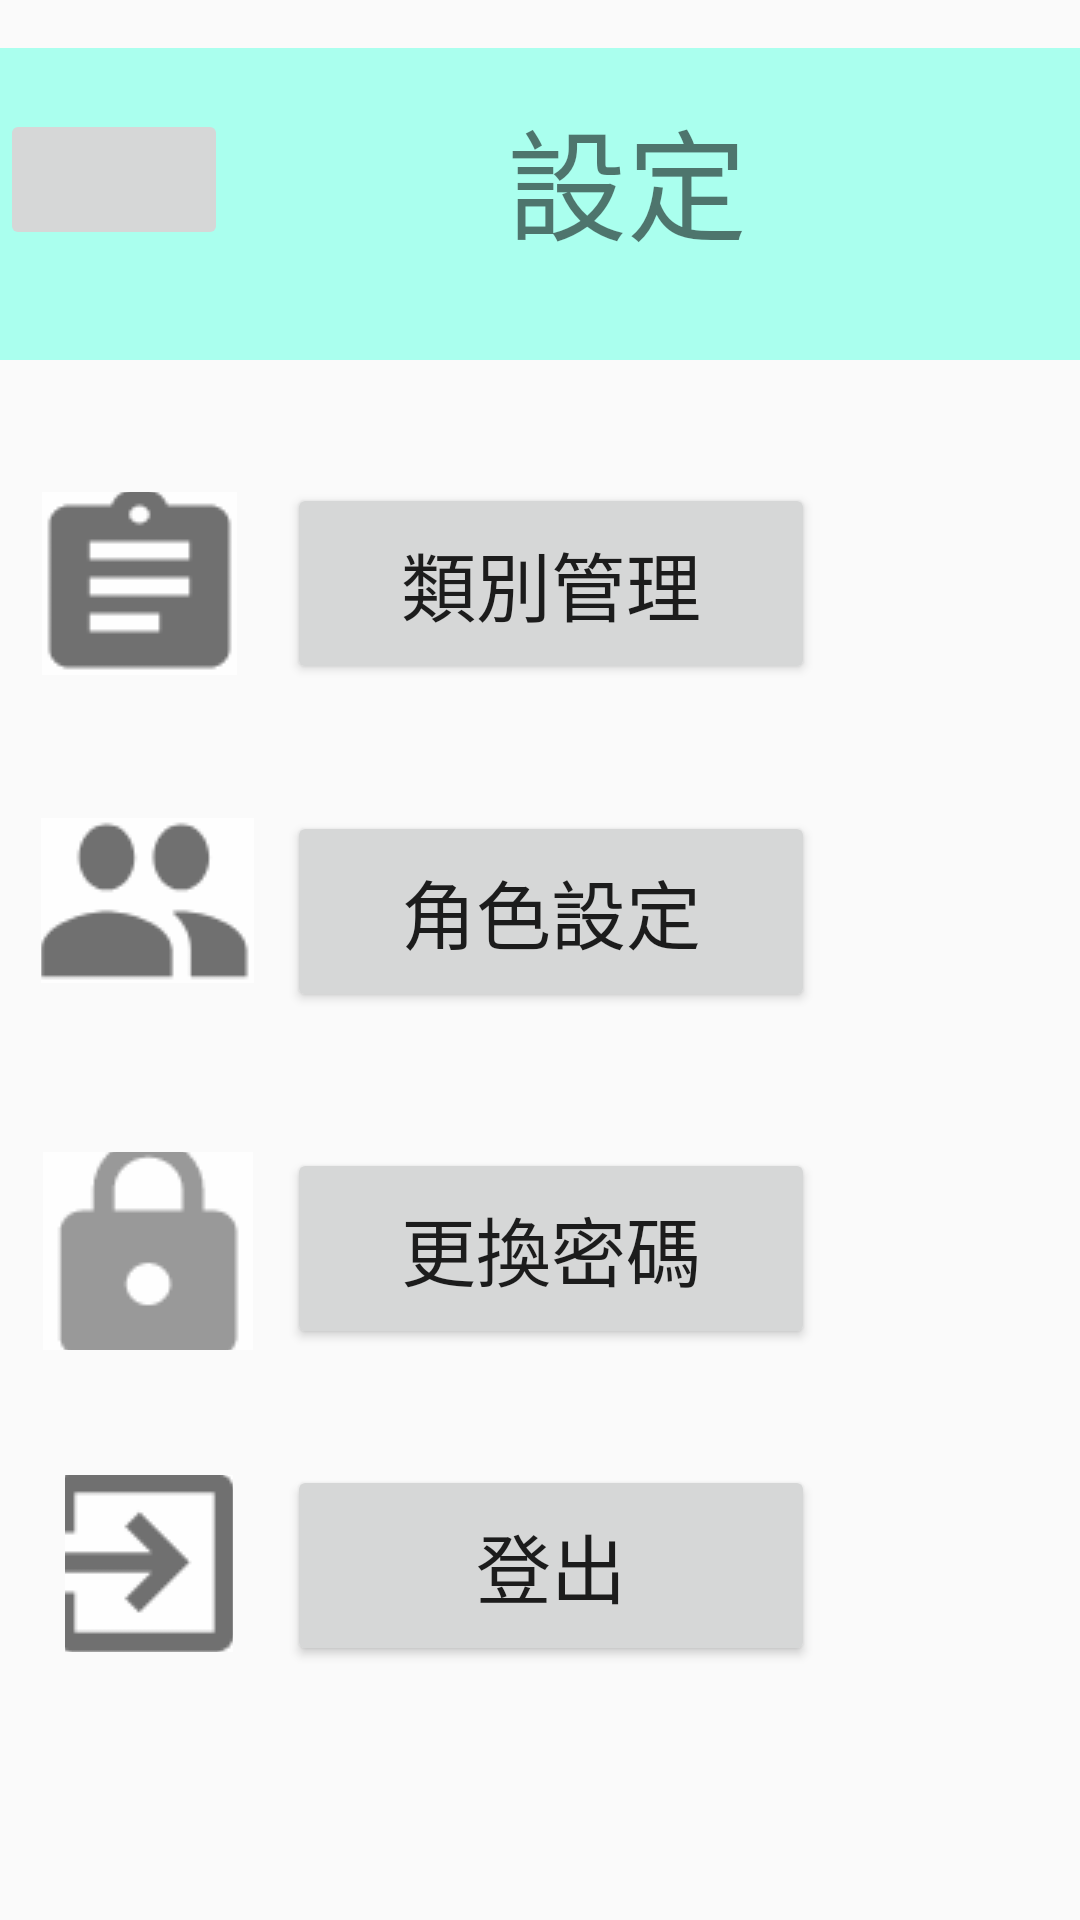

Locate icon controls on the screen. Image size 1080 × 1920, boxes as detection(x1, y1, x2, y2).
category: detection(48, 492, 231, 669)
change password: detection(60, 1152, 238, 1350)
log out: detection(65, 1475, 233, 1652)
role: detection(41, 823, 249, 978)
